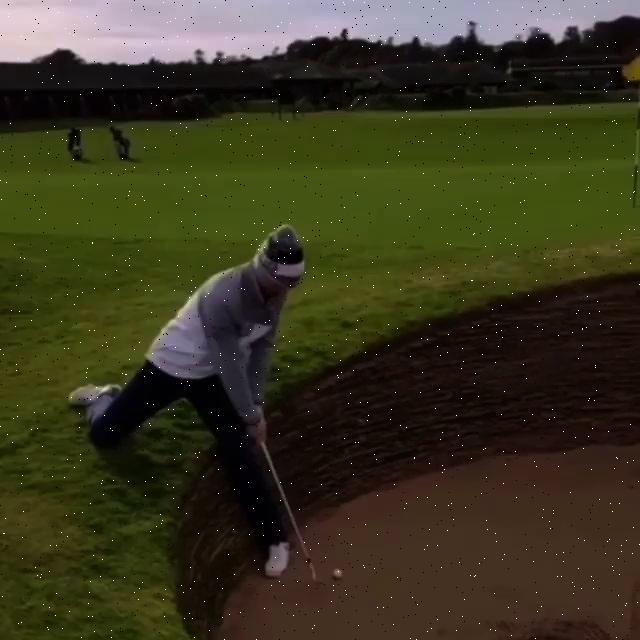ClubHandle: (262, 444, 325, 589)
ClubHead: (314, 578, 325, 586)
GolfBall: (331, 568, 344, 579)
